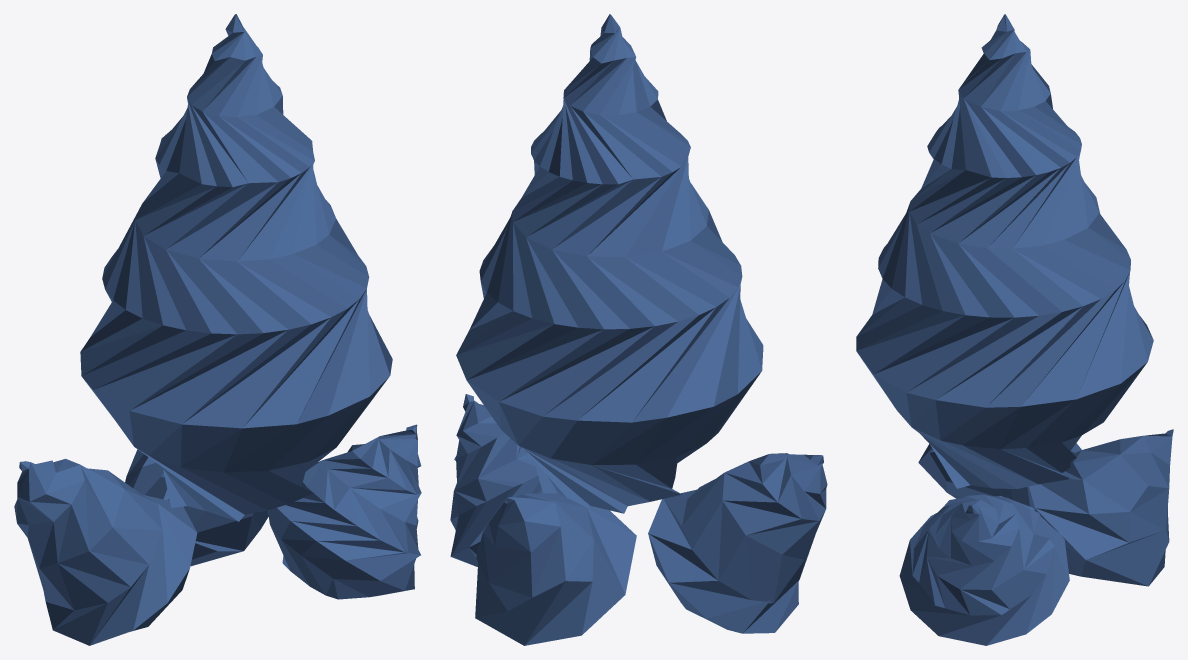
The model's file is tree-winter-leaves-004.glb.
The picture shows the model from 3 angles, left to right: view 1: azimuth 30°, elevation 25°; view 2: azimuth 150°, elevation 25°; view 3: azimuth 270°, elevation 25°; orthographic projection. The views are drawn at different scales.
Visible parts, largest first — view 1: Circle.039_125; view 2: Circle.039_125; view 3: Circle.039_125.
Boxes of the visible parts, x1,y1,x2,y2 form: Circle.039_125: (14, 14, 421, 645); Circle.039_125: (450, 14, 827, 645); Circle.039_125: (856, 14, 1173, 645).
Size of the model in its own units: 1.05 by 1.56 by 0.7933.
